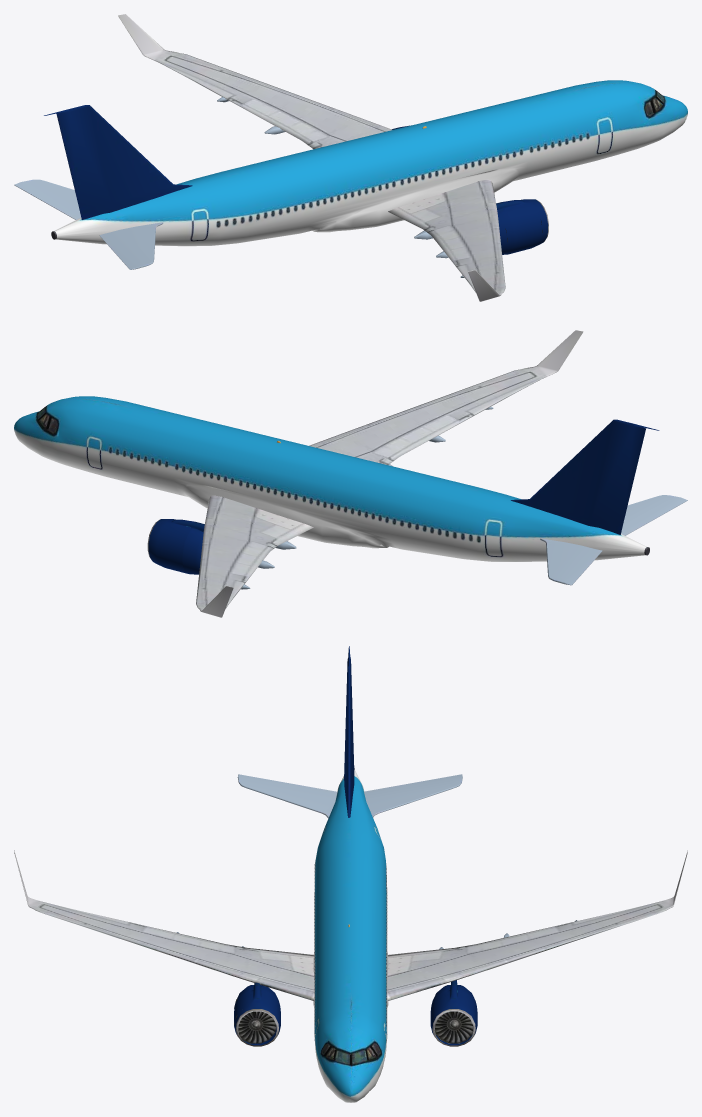
The model's file is amvlab-a320.glb.
3 views of the same model, one above another, from view 1: azimuth 30°, elevation 25°; view 2: azimuth 150°, elevation 25°; view 3: azimuth 270°, elevation 25° (orthographic). The views are drawn at different scales.
Visible parts, largest first — view 1: airplane; view 2: airplane; view 3: airplane.
Boxes of the visible parts, left/top/right/bottom form: airplane: left=14, top=14, right=687, bottom=301; airplane: left=14, top=330, right=687, bottom=617; airplane: left=14, top=646, right=687, bottom=1102.
Bounding box in the file's own units: 37.68 × 11.32 × 35.48.
Materials: 1 (1 with a texture image).
